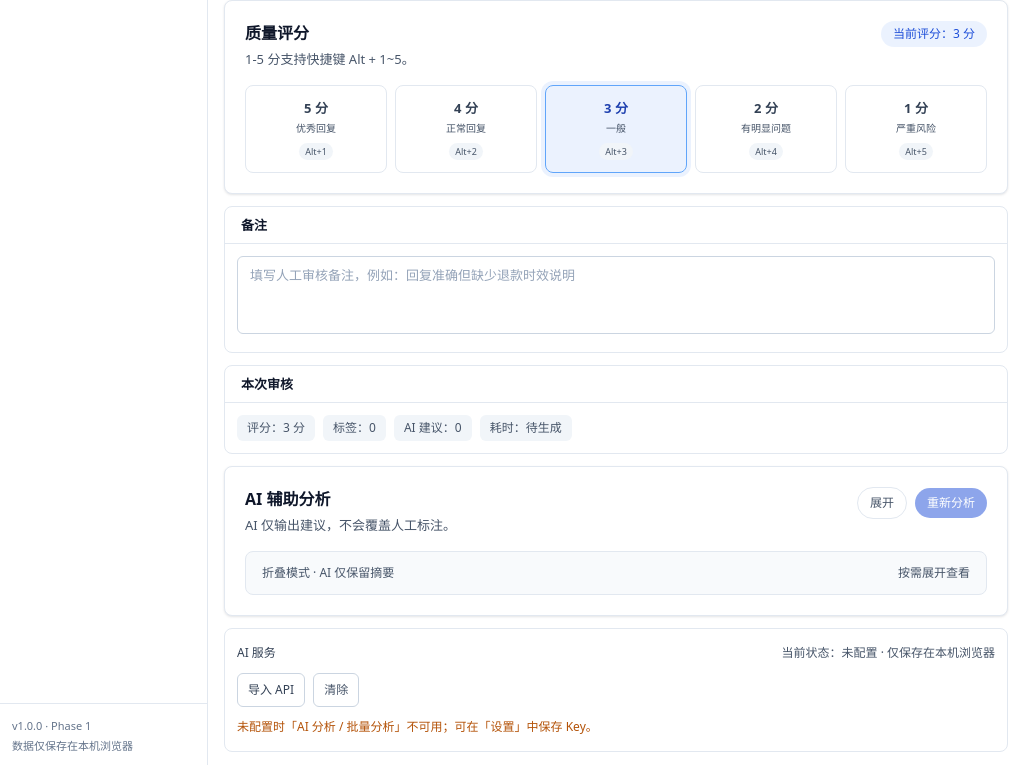
Test: F. AI 分析 › 点击「导入 API」并输入 Key（含首尾空格）→ 状态变「已配置」，两个 AI 分析按钮可用
The width and height of the screenshot is (1024, 765).
(page scrolled)
Click the button "导入 API": (271, 690) [237,673,305,707]
(page scrolled)
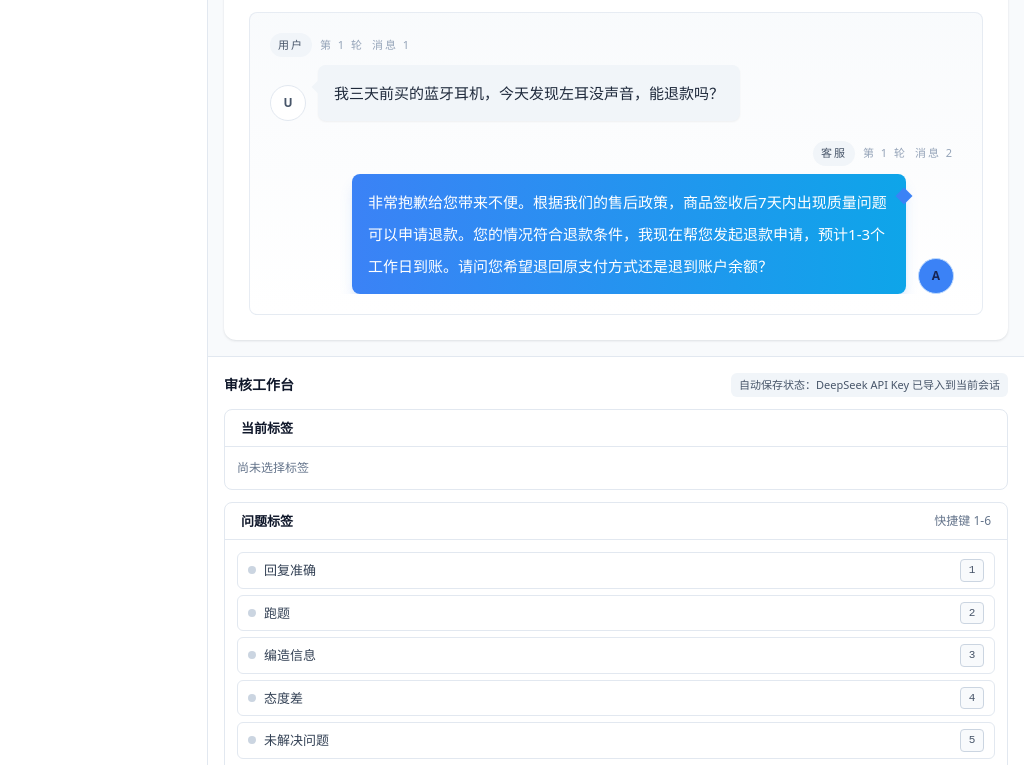
Now the text "自动保存状态：DeepSeek API Key 已导入到当前会话" is shown, box [731,372,1008,397]
